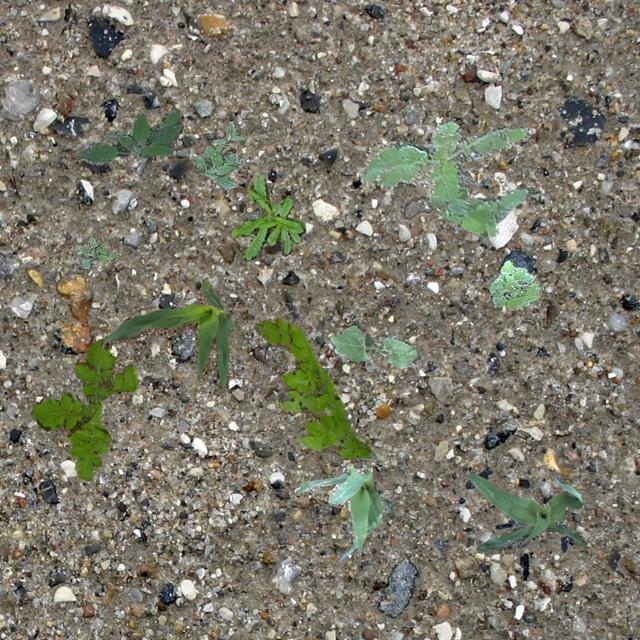crop: (100, 278, 232, 392), (294, 462, 394, 562), (466, 468, 584, 552), (328, 324, 418, 368)
weed: (360, 120, 534, 238), (254, 317, 370, 458), (31, 338, 136, 480), (230, 174, 304, 260), (74, 108, 182, 164), (192, 120, 246, 190), (489, 260, 542, 308), (78, 236, 119, 268)
